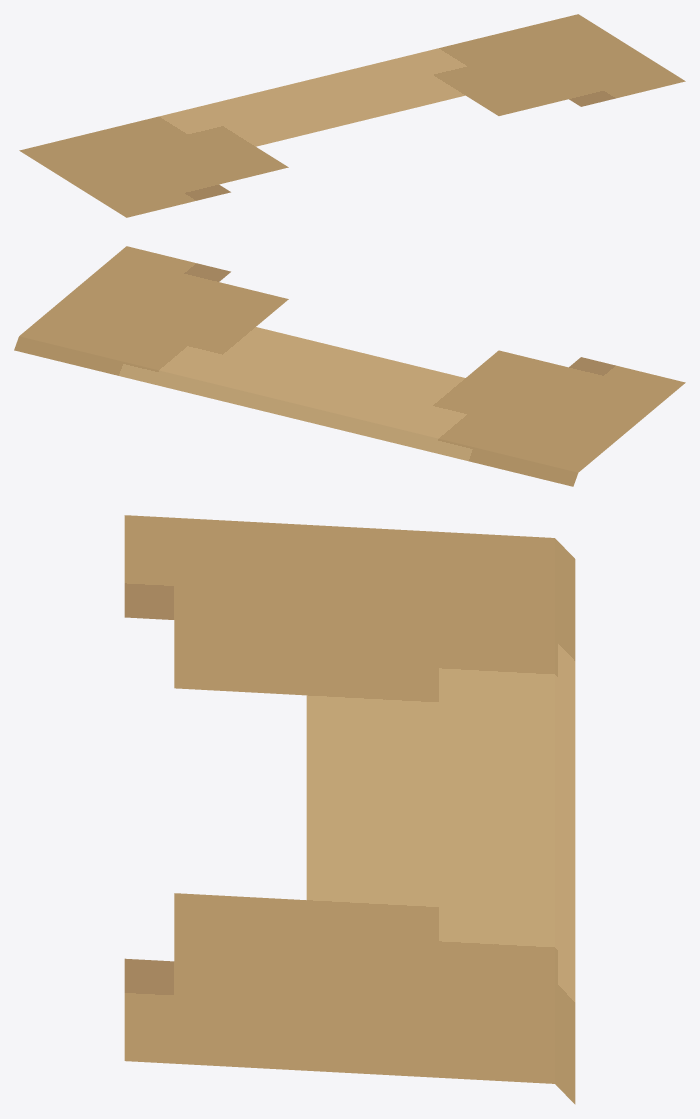
3 renders of one model, top to bottom at view 1: azimuth 30°, elevation 25°; view 2: azimuth 150°, elevation 25°; view 3: azimuth 270°, elevation 25°, orthographic. The views are drawn at different scales.
Bounding box in the file's own units: 1 × 0.0373 × 0.3486.
Materials: 1 (1 with a texture image).
